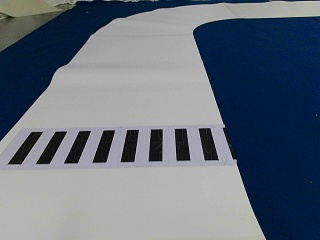crosswalk: (8, 129, 219, 165)
